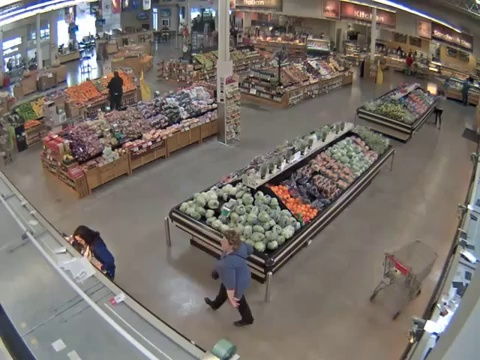face: (220, 237, 233, 251), (75, 233, 86, 246)
